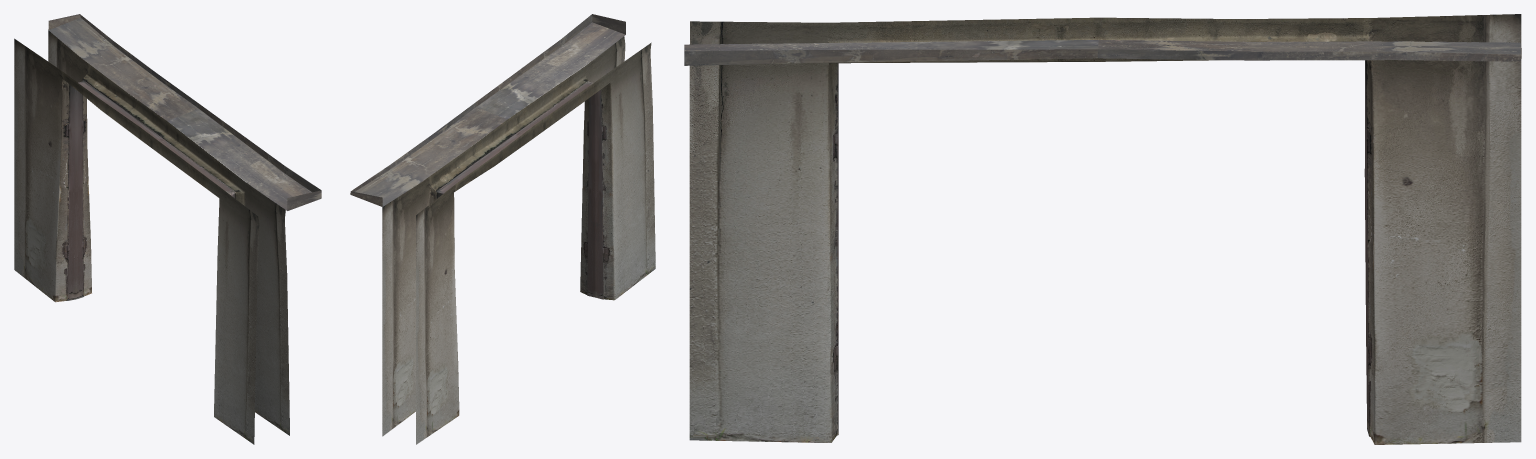
Rendered from sm_GarageFront_01_01.fbx.
3 views of the same model, side by side, from view 1: azimuth 30°, elevation 25°; view 2: azimuth 150°, elevation 25°; view 3: azimuth 270°, elevation 25° (orthographic). The views are drawn at different scales.
Parts seen in each view (by area): view 1: sm_GarageFront_01_01_LOD0; view 2: sm_GarageFront_01_01_LOD0; view 3: sm_GarageFront_01_01_LOD0.
Part boxes in pixels (bbox=[...]): sm_GarageFront_01_01_LOD0: bbox=[14, 14, 321, 444]; sm_GarageFront_01_01_LOD0: bbox=[350, 14, 655, 444]; sm_GarageFront_01_01_LOD0: bbox=[684, 14, 1521, 444].
Size of the model in its own units: 553 by 89.56 by 306.
